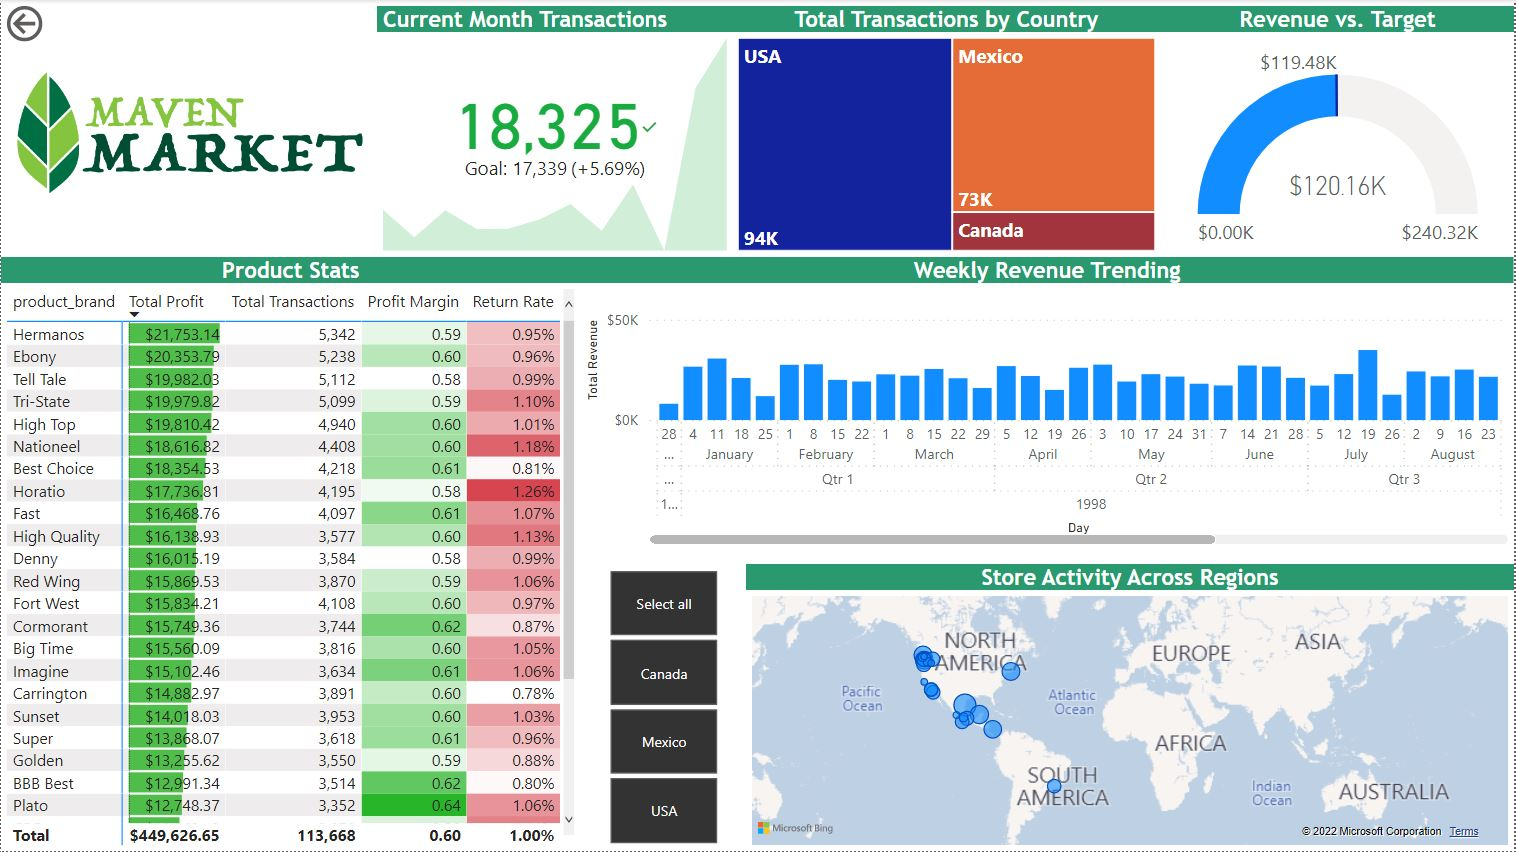

What the dashboard file says about the page in this screenshot:
{"tool":"powerbi","page":{"name":"Topline Performance","canvas":[1280,720],"ordinal":0},"visuals":[{"type":"image","box":[0,31.3,317.3,159.9],"z":0},{"type":"pivotTable","title":"Product Stats","fields":{"Values":["Transaction_Data.Total Profit","Transaction_Data.Total Transactions","Transaction_Data.Profit Margin","Returns.Return Rate"],"Rows":["Products.product_brand"]},"box":[0,217.4,489.9,502.6],"z":1000},{"type":"kpi","title":"Current Month Transactions","fields":{"Indicator":["Transaction_Data.Total Transactions"],"TrendLine":["Calendar.Start of Month"],"Goal":["Transaction_Data.Last Month Transactions"]},"box":[318.1,5.1,301.2,212.4],"z":2000},{"type":"map","title":"Store Activity Across Regions","fields":{"Category":["Stores.store_city"],"Size":["Transaction_Data.Total Transactions"]},"box":[630.3,477.2,649.8,242.8],"z":3000},{"type":"treemap","title":"Total Transactions by Country","fields":{"Values":["Transaction_Data.Total Transactions"],"Group":["Stores.store_country","Stores.store_state","Stores.store_city"]},"box":[618.5,5.1,363,212.4],"z":4000},{"type":"actionButton","box":[0,0,100,40],"z":5000},{"type":"columnChart","title":"Weekly Revenue Trending","fields":{"Y":["Transaction_Data.Total Revenue"],"Category":["Calendar.Start of Week.Variation.Date Hierarchy.Year","Calendar.Start of Week.Variation.Date Hierarchy.Quarter","Calendar.Start of Week.Variation.Date Hierarchy.Month","Calendar.Start of Week.Variation.Date Hierarchy.Day"]},"box":[489.9,217.4,790.2,247.9],"z":6000},{"type":"gauge","title":"Revenue vs. Target","fields":{"Y":["Transaction_Data.Total Revenue"],"TargetValue":["Transaction_Data.Revenue Target"]},"box":[981.4,5.1,298.7,212.4],"z":7000},{"type":"slicer","fields":{"Values":["Stores.store_country"]},"box":[489.9,476.3,140.4,243.7],"z":8000}]}

Visuals, with their boxes in screenshot pixels (x1, y1, x2, y2), scaled from the page's 1280x720 canvas onto the 1516x852 screenshot:
image: (0,37,376,226)
"Product Stats" pivotTable: (0,257,580,851)
"Current Month Transactions" kpi: (377,6,733,257)
"Store Activity Across Regions" map: (747,565,1515,851)
"Total Transactions by Country" treemap: (733,6,1162,257)
actionButton: (0,0,118,47)
"Weekly Revenue Trending" columnChart: (580,257,1515,551)
"Revenue vs. Target" gauge: (1162,6,1515,257)
slicer - Stores.store_country: (580,564,747,851)
